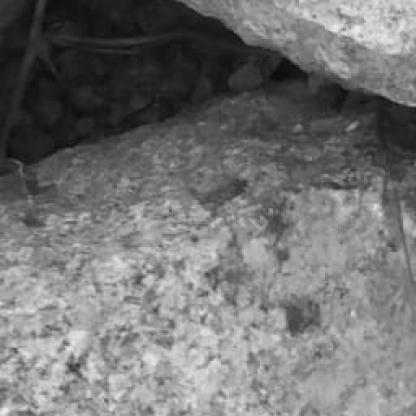cementitious_debris: (1, 2, 304, 168)
